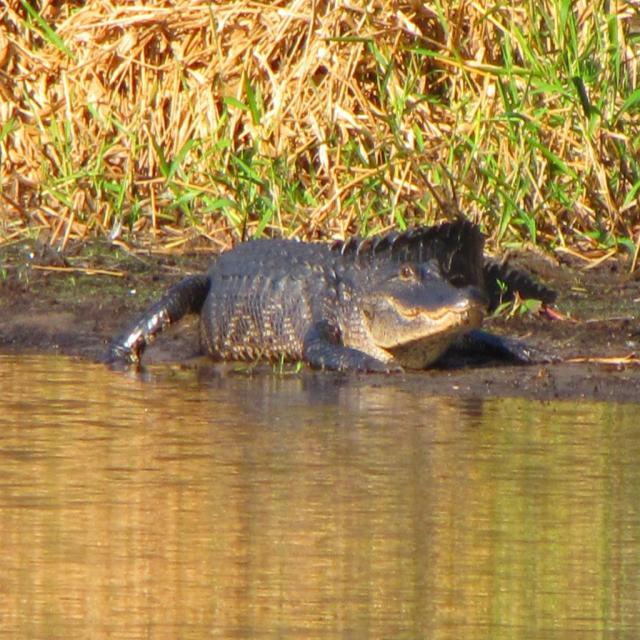crocodile: (109, 216, 556, 374)
